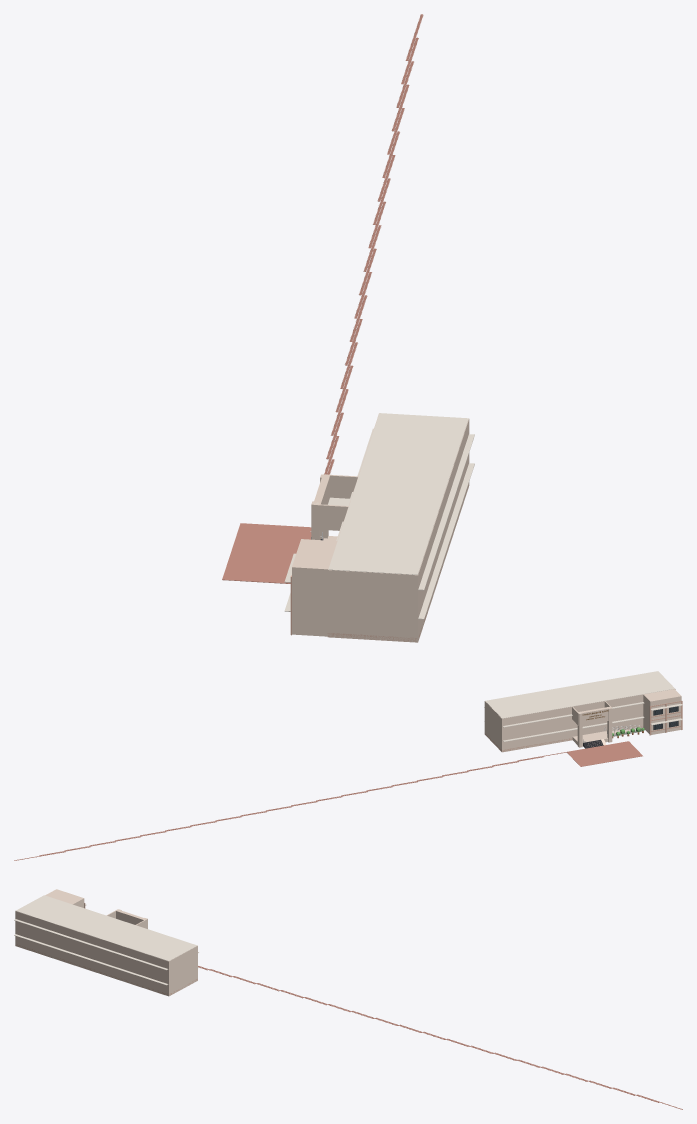
The model's file is ct_charles_babbage.glb.
The picture shows the model from 3 angles, top to bottom: view 1: azimuth 30°, elevation 25°; view 2: azimuth 150°, elevation 25°; view 3: azimuth 270°, elevation 25°; orthographic projection. The views are drawn at different scales.
Visible parts, largest first — view 1: Roof_coping, COL_main, Forecourt, COL_wing, Hex_pavers, Sunshade_ledge.002, Sunshade_ledge.003; view 2: COL_main, Roof_coping, Forecourt, Hex_pavers, COL_wing, Portico_fascia, End_wing, Sunshade_ledge; view 3: COL_main, Roof_coping, Hex_pavers, Sunshade_ledge.003, Sunshade_ledge.002, COL_wing.
Boxes of the visible parts, <box> form: Roof_coping: <box>328,413,468,574</box>; COL_main: <box>327,414,469,642</box>; Forecourt: <box>222,523,311,583</box>; COL_wing: <box>292,539,337,636</box>; Hex_pavers: <box>324,14,423,474</box>; Sunshade_ledge.002: <box>418,463,474,619</box>; Sunshade_ledge.003: <box>418,434,474,590</box>; COL_main: <box>484,676,675,752</box>; Roof_coping: <box>485,671,674,718</box>; Forecourt: <box>567,741,642,766</box>; Hex_pavers: <box>14,751,568,860</box>; COL_wing: <box>643,689,681,734</box>; Portico_fascia: <box>577,706,611,725</box>; End_wing: <box>643,702,680,734</box>; Sunshade_ledge: <box>503,716,644,741</box>; COL_main: <box>15,911,197,996</box>; Roof_coping: <box>15,895,197,961</box>; Hex_pavers: <box>198,966,682,1109</box>; Sunshade_ledge.003: <box>14,919,168,970</box>; Sunshade_ledge.002: <box>14,934,168,985</box>; COL_wing: <box>45,889,84,907</box>.
Bounding box in the file's own units: 101 × 8.85 × 153.
